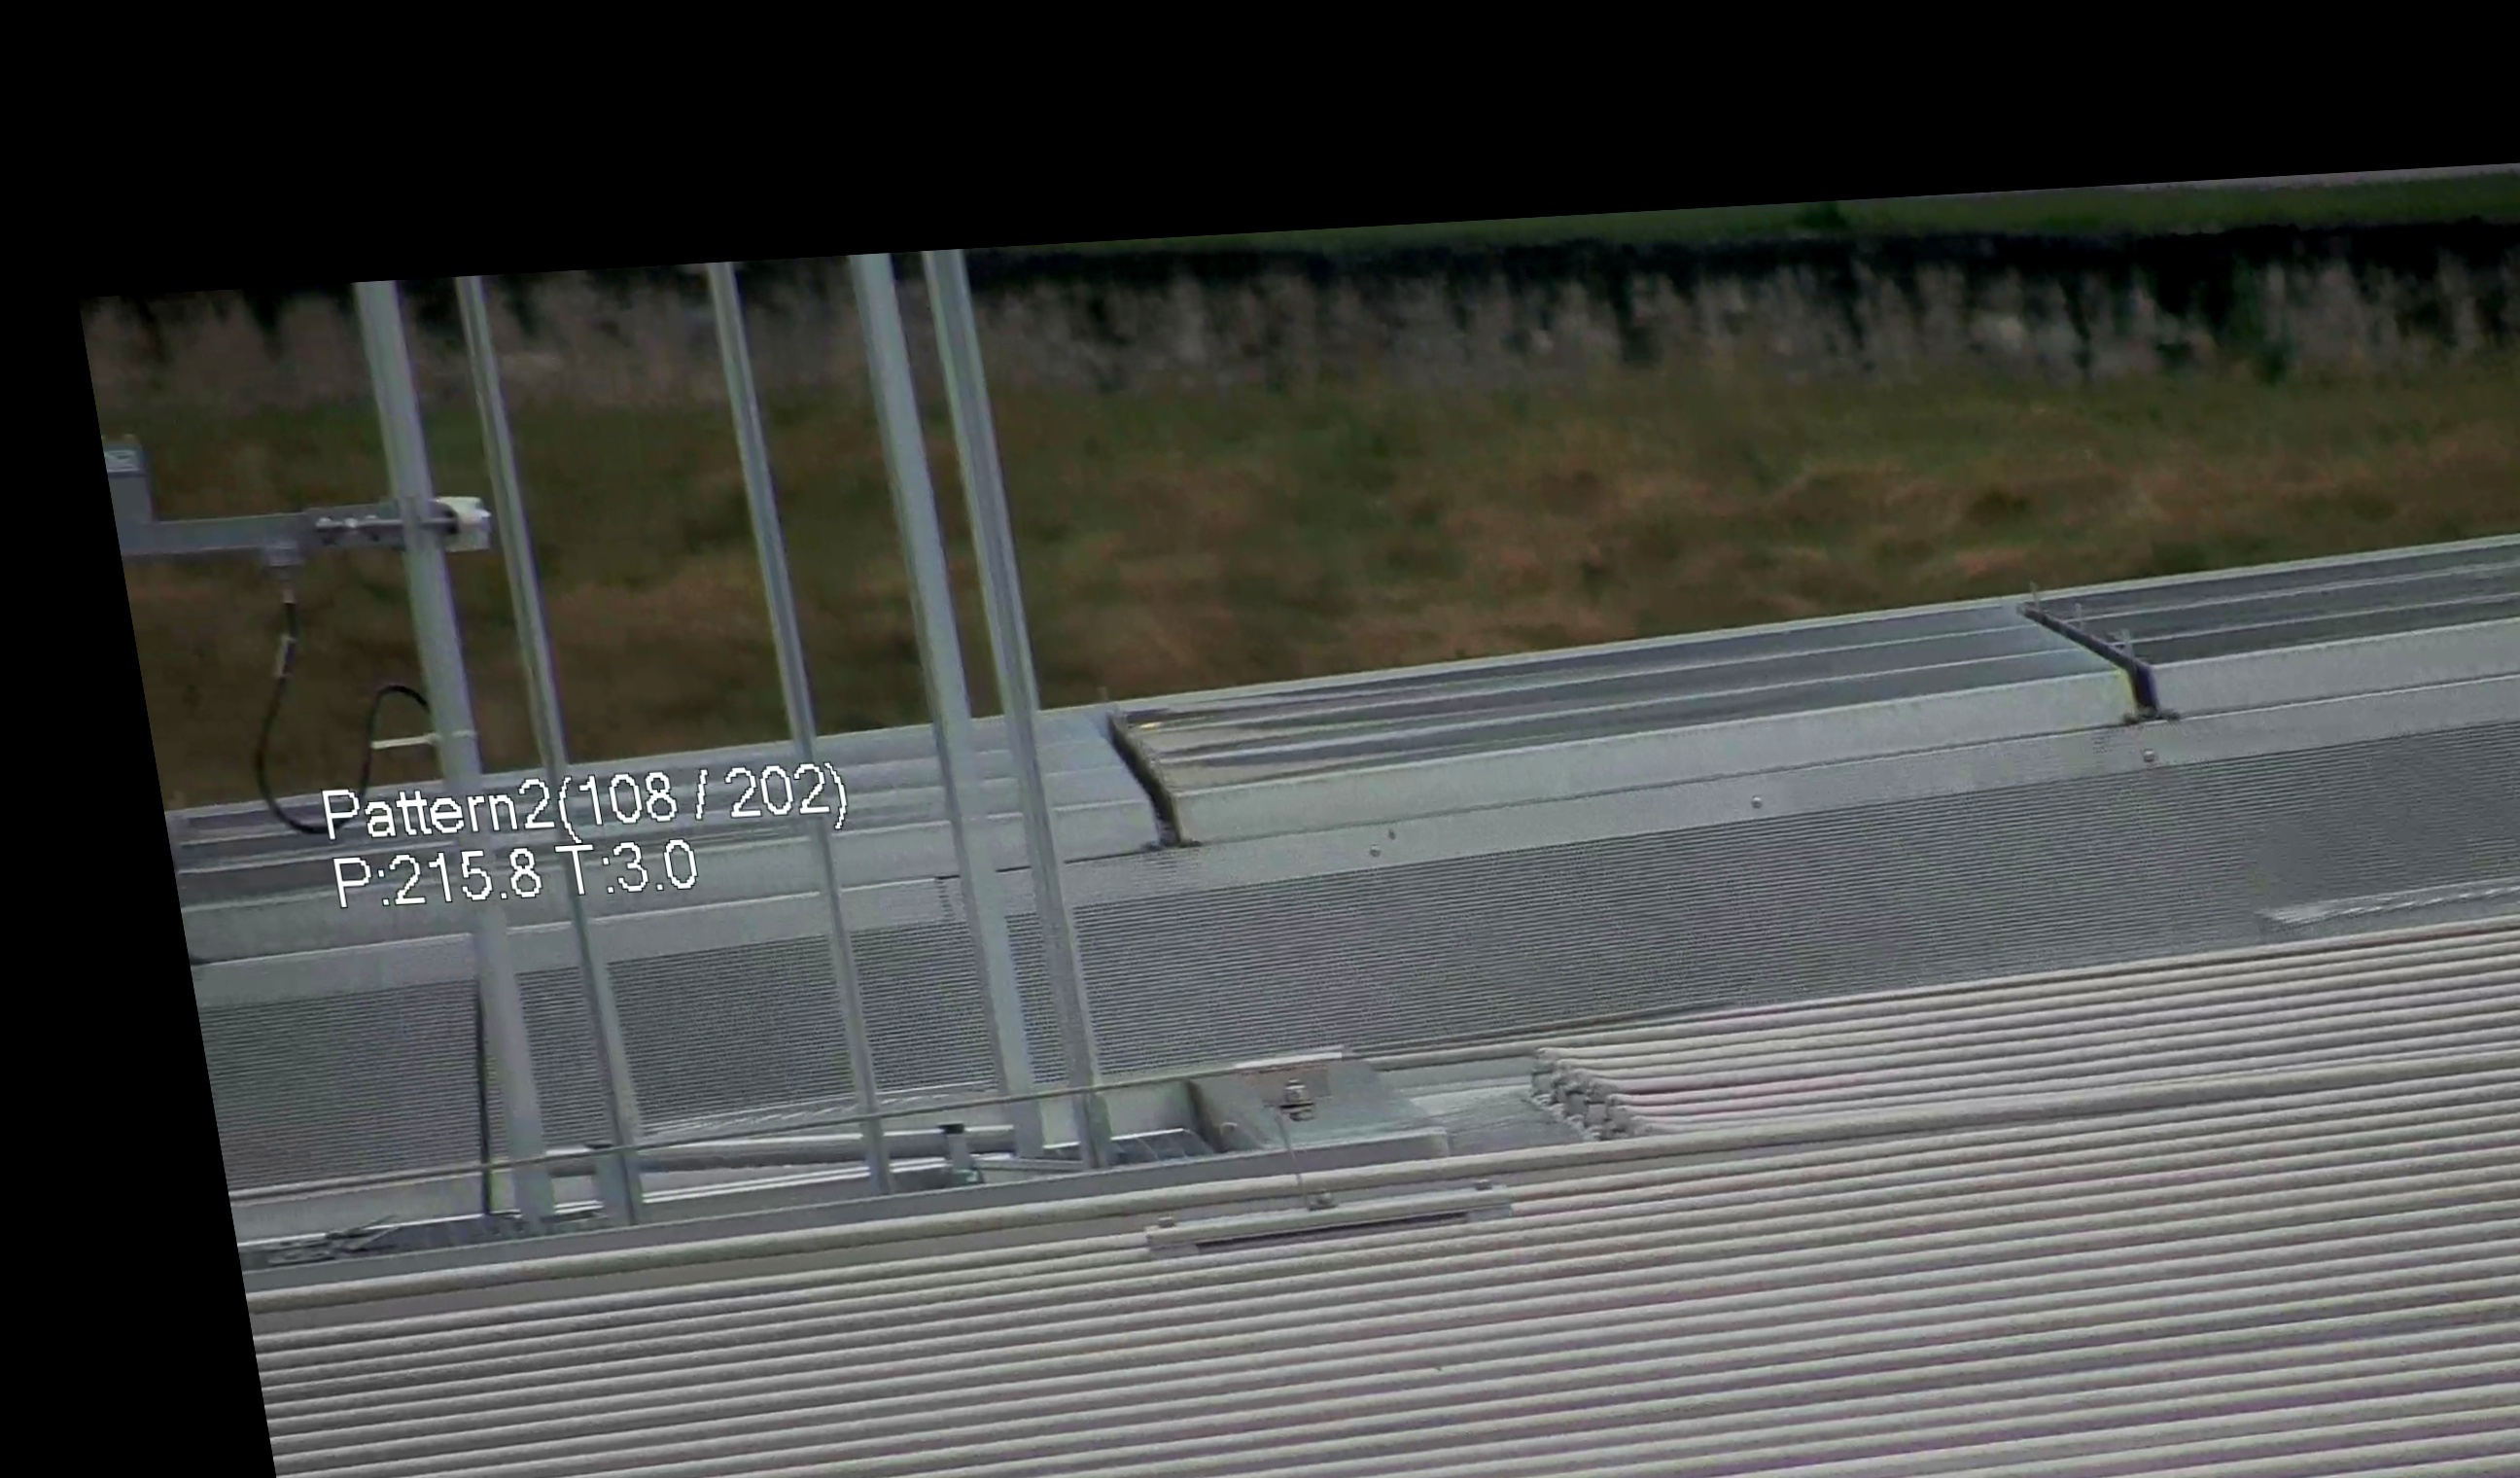Other: (1083, 688, 1201, 862)
